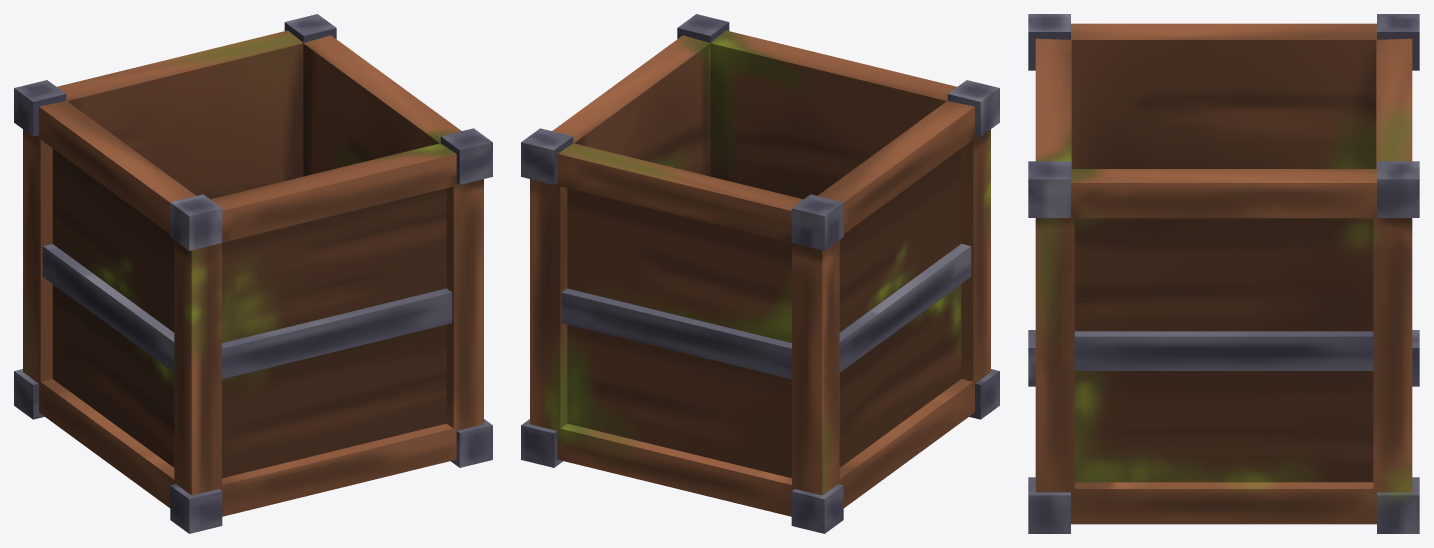
File: CrateOpen.fbx
3 renders of one model, left to right at view 1: azimuth 30°, elevation 25°; view 2: azimuth 150°, elevation 25°; view 3: azimuth 270°, elevation 25°, orthographic. The views are drawn at different scales.
Visible parts, largest first — view 1: CrateOpen; view 2: CrateOpen; view 3: CrateOpen.
Part boxes in pixels (<box>): CrateOpen: <box>14,14,492,533</box>; CrateOpen: <box>521,14,999,533</box>; CrateOpen: <box>1028,14,1419,533</box>.
Size of the model in its own units: 208 by 208 by 208.
